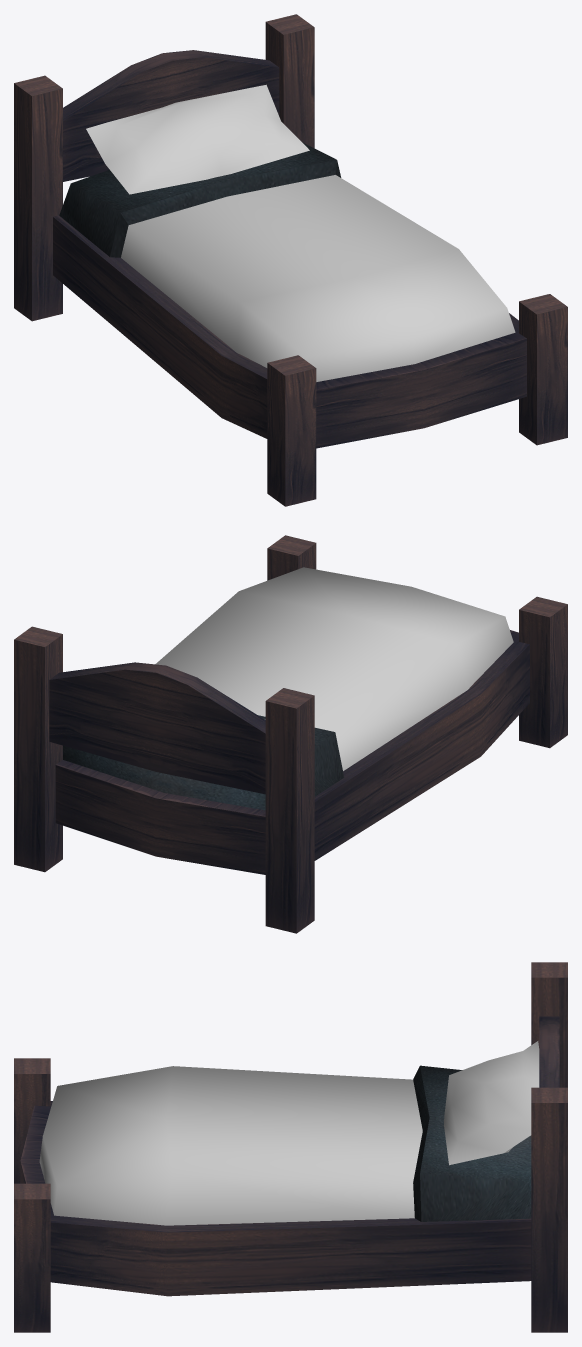
Rendered from Bed_E.fbx.
3 views of the same model, one above another, from view 1: azimuth 30°, elevation 25°; view 2: azimuth 150°, elevation 25°; view 3: azimuth 270°, elevation 25° (orthographic). The views are drawn at different scales.
Parts seen in each view (by area): view 1: Bed_E; view 2: Bed_E; view 3: Bed_E.
Boxes of the visible parts, x1=… form: Bed_E: x1=14, y1=14, x2=567, y2=506; Bed_E: x1=14, y1=535, x2=567, y2=933; Bed_E: x1=14, y1=962, x2=567, y2=1332.
Size of the model in its own units: 0.3117 by 0.2371 by 0.5181.
